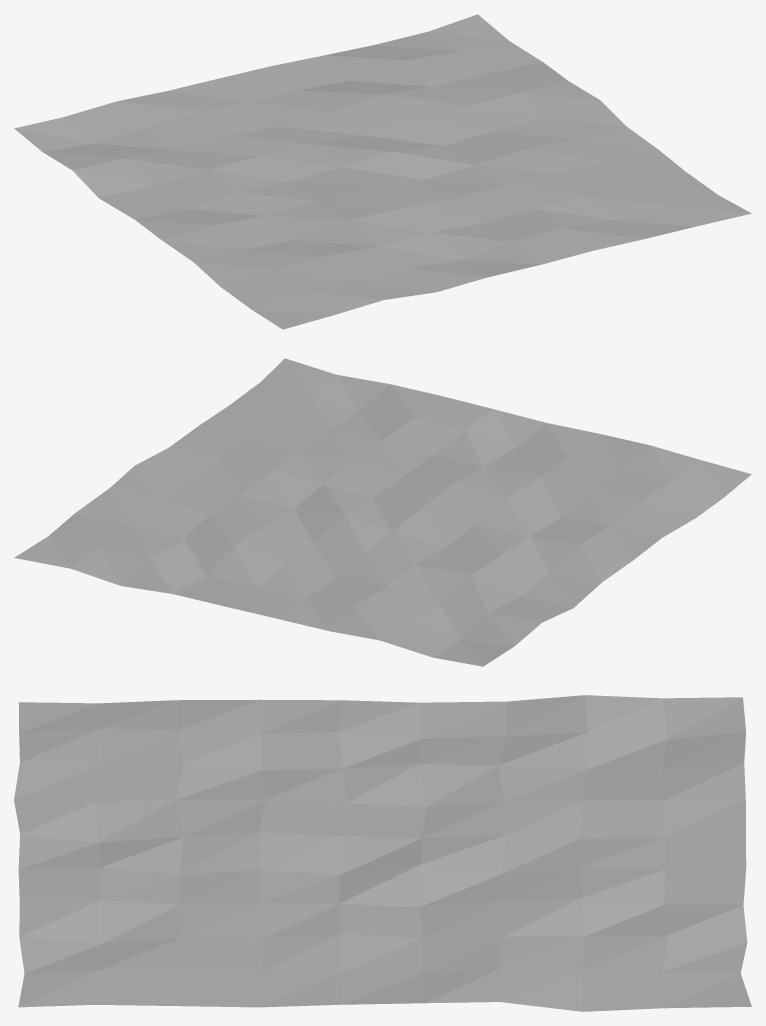
Rendered from crazy_ground.obj.
3 views of the same model, one above another, from view 1: azimuth 30°, elevation 25°; view 2: azimuth 150°, elevation 25°; view 3: azimuth 270°, elevation 25° (orthographic). The views are drawn at different scales.
Parts seen in each view (by area): view 1: Grid_Grid.001; view 2: Grid_Grid.001; view 3: Grid_Grid.001.
Part boxes in pixels (box(x1,y1,x2,y2)): Grid_Grid.001: box(14, 14, 751, 329); Grid_Grid.001: box(14, 358, 751, 666); Grid_Grid.001: box(14, 695, 751, 1011).
Bounding box in the file's own units: 20.22 × 0.3727 × 20.32.
1 material, 1 textured.
